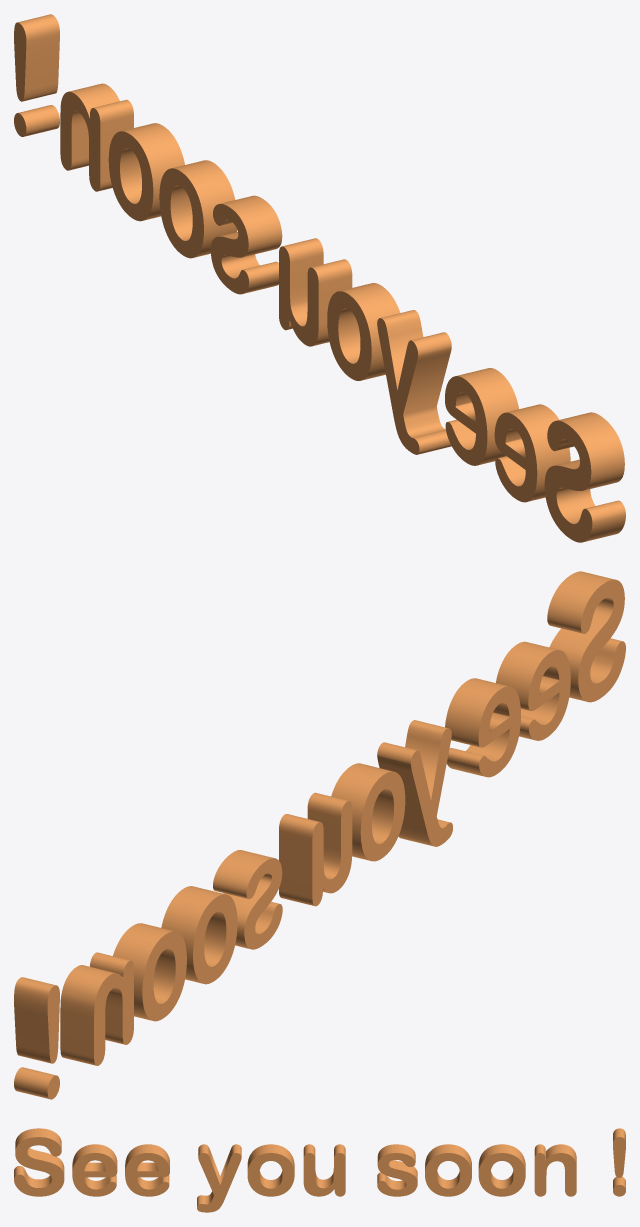
The model's file is seeyousoon.glb.
The picture shows the model from 3 angles, top to bottom: view 1: azimuth 30°, elevation 25°; view 2: azimuth 150°, elevation 25°; view 3: azimuth 270°, elevation 25°; orthographic projection. The views are drawn at different scales.
Visible parts, largest first — view 1: 文本; view 2: 文本; view 3: 文本.
Part boxes in pixels (left/top/right/bottom): 文本: left=14, top=14, right=625, bottom=542; 文本: left=14, top=571, right=625, bottom=1099; 文本: left=14, top=1128, right=625, bottom=1212.
Size of the model in its own units: 0.2 by 0.8105 by 5.96.
